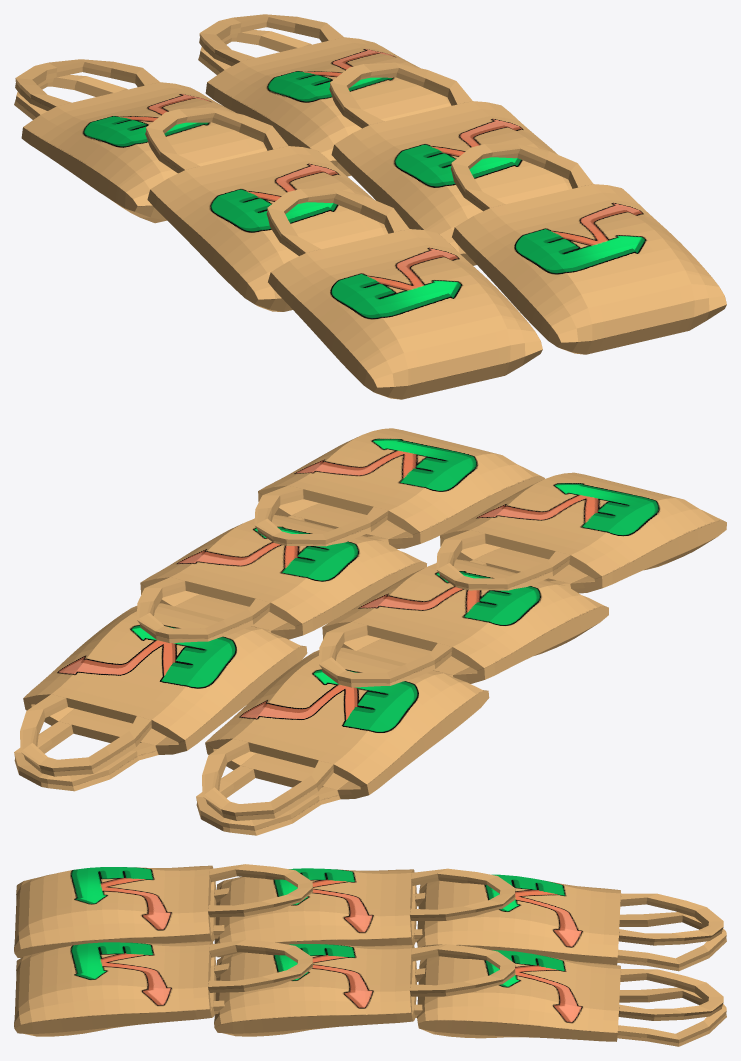
Rendered from TotebagGroup.fbx.
3 renders of one model, top to bottom at view 1: azimuth 30°, elevation 25°; view 2: azimuth 150°, elevation 25°; view 3: azimuth 270°, elevation 25°, orthographic. The views are drawn at different scales.
Visible parts, largest first — view 1: Totebag_4, Totebag_1, Totebag_2, Totebag_5, Totebag_3, Totebag_6; view 2: Totebag_3, Totebag_6, Totebag_1, Totebag_2, Totebag_4, Totebag_5; view 3: Totebag_6, Totebag_4, Totebag_3, Totebag_1, Totebag_5, Totebag_2.
Boxes of the visible parts, <box> form: Totebag_4: <box>450,143,726,354</box>; Totebag_1: <box>266,188,542,399</box>; Totebag_2: <box>145,107,388,311</box>; Totebag_5: <box>329,62,572,265</box>; Totebag_3: <box>14,59,267,223</box>; Totebag_6: <box>198,14,451,176</box>; Totebag_3: <box>196,647,489,835</box>; Totebag_6: <box>14,603,307,791</box>; Totebag_1: <box>436,472,726,593</box>; Totebag_2: <box>318,559,608,687</box>; Totebag_4: <box>254,428,544,548</box>; Totebag_5: <box>136,515,426,643</box>; Totebag_6: <box>417,950,726,1046</box>; Totebag_4: <box>14,939,312,1036</box>; Totebag_3: <box>417,874,726,971</box>; Totebag_1: <box>14,864,312,957</box>; Totebag_5: <box>214,944,515,1036</box>; Totebag_2: <box>214,868,515,957</box>.
Bounding box in the file's own units: 13.27 × 2.81 × 26.94.
1 material, 1 textured.
